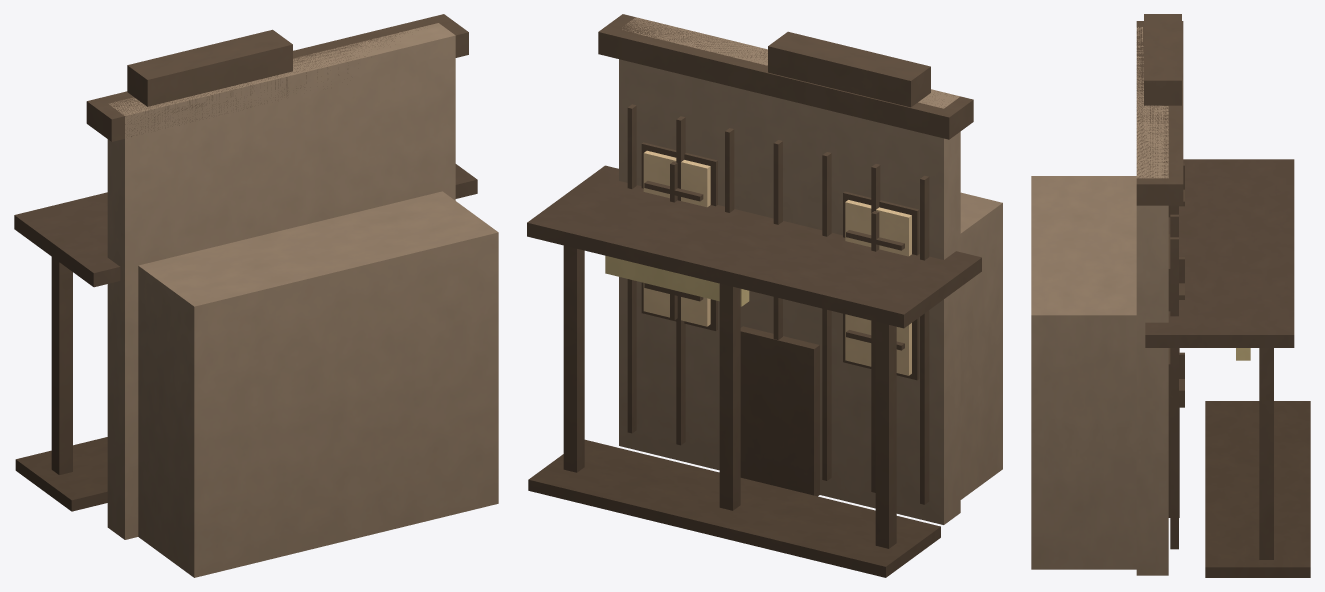
The model's file is production_assay.glb.
3 renders of one model, left to right at view 1: azimuth 30°, elevation 25°; view 2: azimuth 150°, elevation 25°; view 3: azimuth 270°, elevation 25°, orthographic. The views are drawn at different scales.
Visible parts, largest first — view 1: production_assay; view 2: production_assay; view 3: production_assay.
Part boxes in pixels (<box>): production_assay: <box>14,14,498,577</box>; production_assay: <box>527,14,1002,577</box>; production_assay: <box>1031,14,1310,577</box>.
Bounding box in the file's own units: 2.84 × 3.19 × 1.91.
1 material, 1 textured.
